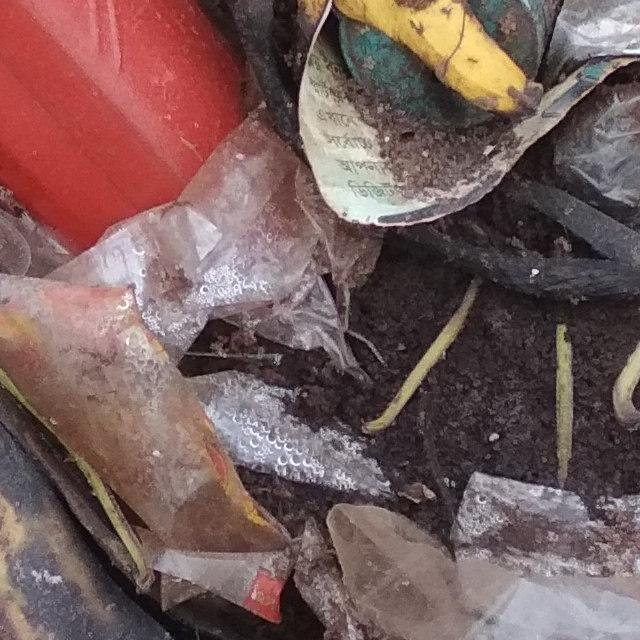food_waste: (0, 271, 297, 640), (255, 0, 571, 122)
